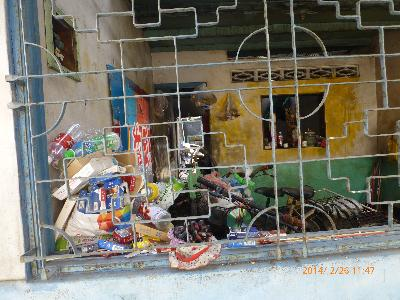bottle: (44, 122, 83, 166), (65, 133, 123, 158), (140, 201, 173, 229)
